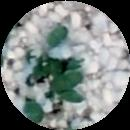Basil: (43, 24, 70, 44), (52, 86, 80, 104), (36, 55, 65, 70), (60, 70, 85, 87), (28, 99, 39, 123)
